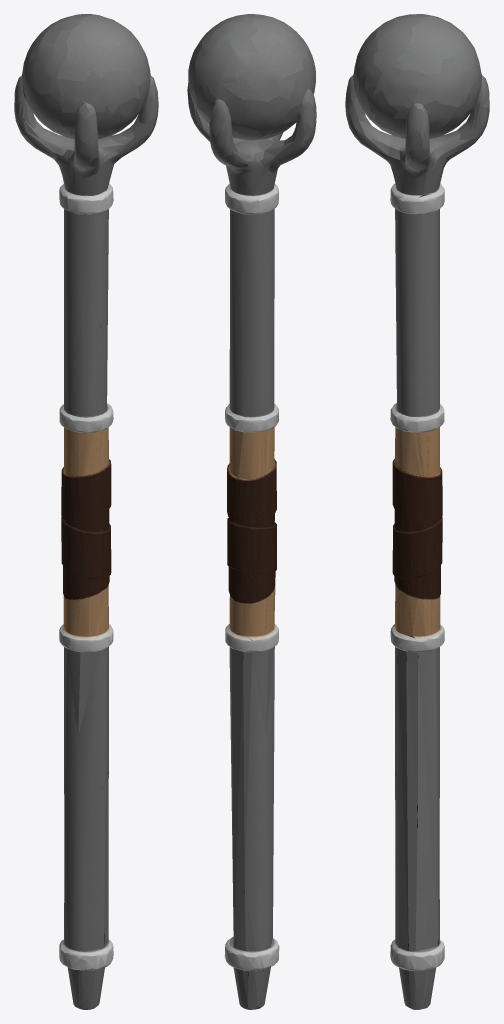
The model's file is staff_g1.fbx.
3 renders of one model, left to right at view 1: azimuth 90°, elevation 25°; view 2: azimuth 150°, elevation 25°; view 3: azimuth 270°, elevation 25°, orthographic.
Parts seen in each view (by area): view 1: staff_g1; view 2: staff_g1; view 3: staff_g1.
Part boxes in pixels (x1,y1,x2,y2): staff_g1: [14, 14, 158, 1009]; staff_g1: [187, 14, 316, 1009]; staff_g1: [345, 14, 489, 1009].
Size of the model in its own units: 74.3 by 560 by 74.33.
1 material, 1 textured.
